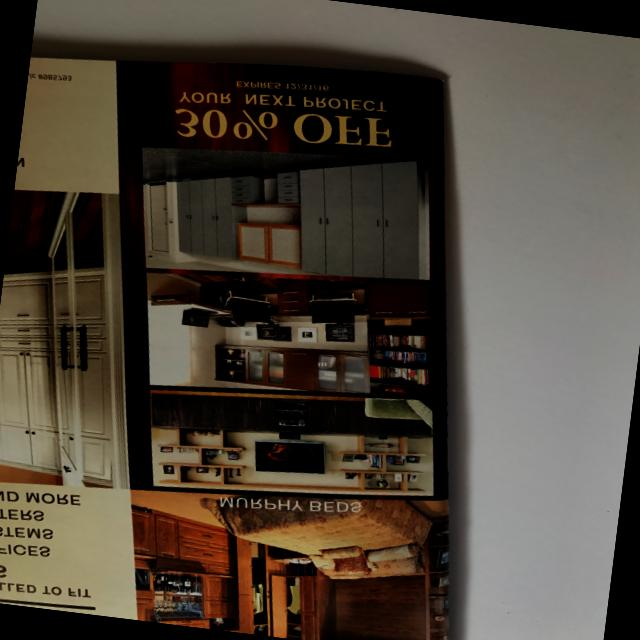Paper: (0, 15, 547, 640)
